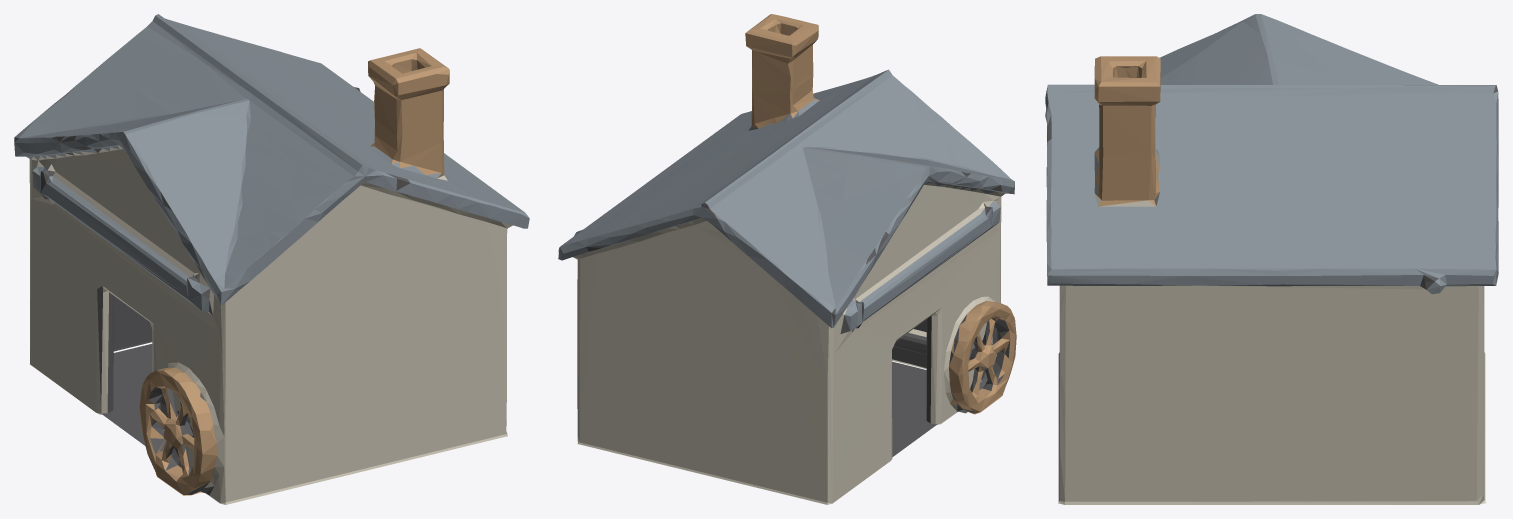
3 renders of one model, left to right at view 1: azimuth 30°, elevation 25°; view 2: azimuth 150°, elevation 25°; view 3: azimuth 270°, elevation 25°, orthographic. The views are drawn at different scales.
Parts seen in each view (by area): view 1: geometry_0; view 2: geometry_0; view 3: geometry_0.
Part boxes in pixels (x1,y1,x2,y2): geometry_0: (14, 14, 529, 504); geometry_0: (558, 14, 1016, 504); geometry_0: (1045, 14, 1498, 504).
Size of the model in its own units: 0.7733 by 0.8191 by 0.8444.
